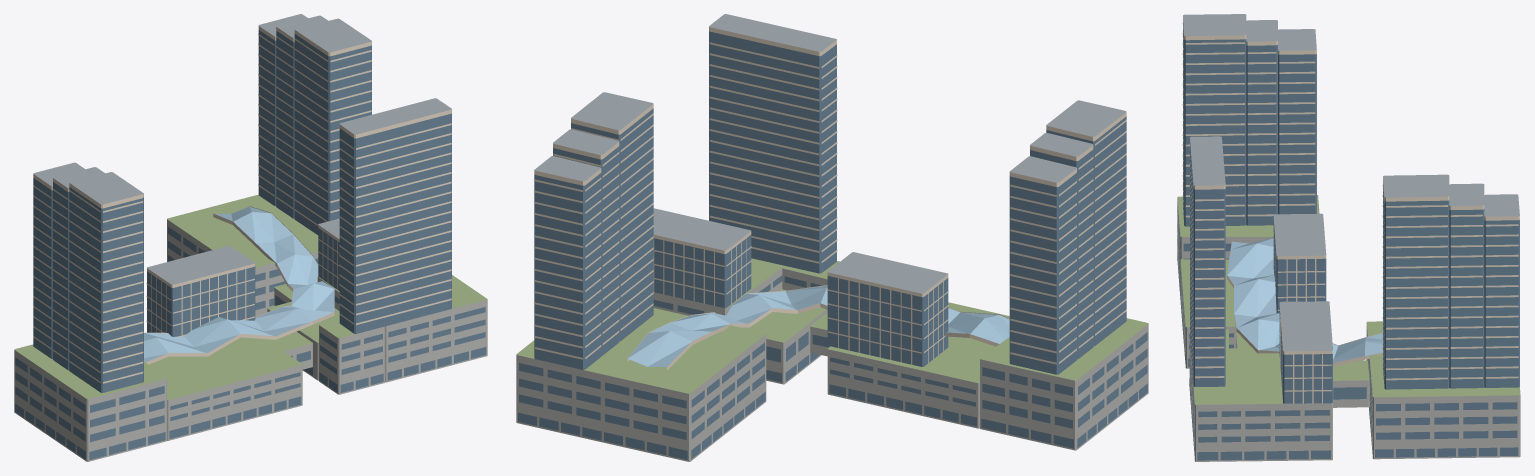
Rendered from mia-brickell-city-centre.glb.
3 renders of one model, left to right at view 1: azimuth 30°, elevation 25°; view 2: azimuth 150°, elevation 25°; view 3: azimuth 270°, elevation 25°, orthographic. The views are drawn at different scales.
Visible parts, largest first — view 1: Brickell City Centre; view 2: Brickell City Centre; view 3: Brickell City Centre.
Boxes of the visible parts, x1,y1,x2,y2 form: Brickell City Centre: [14, 14, 487, 461]; Brickell City Centre: [516, 14, 1148, 461]; Brickell City Centre: [1177, 14, 1520, 461].
Bounding box in the file's own units: 276 × 163 × 196.
